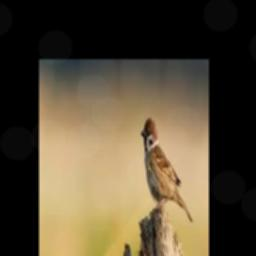Sparrow: (141, 118, 193, 223)
